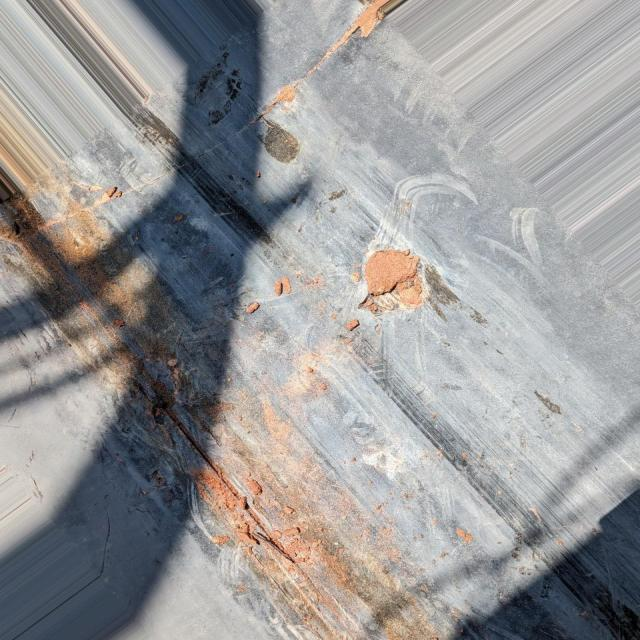impact damage: (4, 212, 456, 640)
